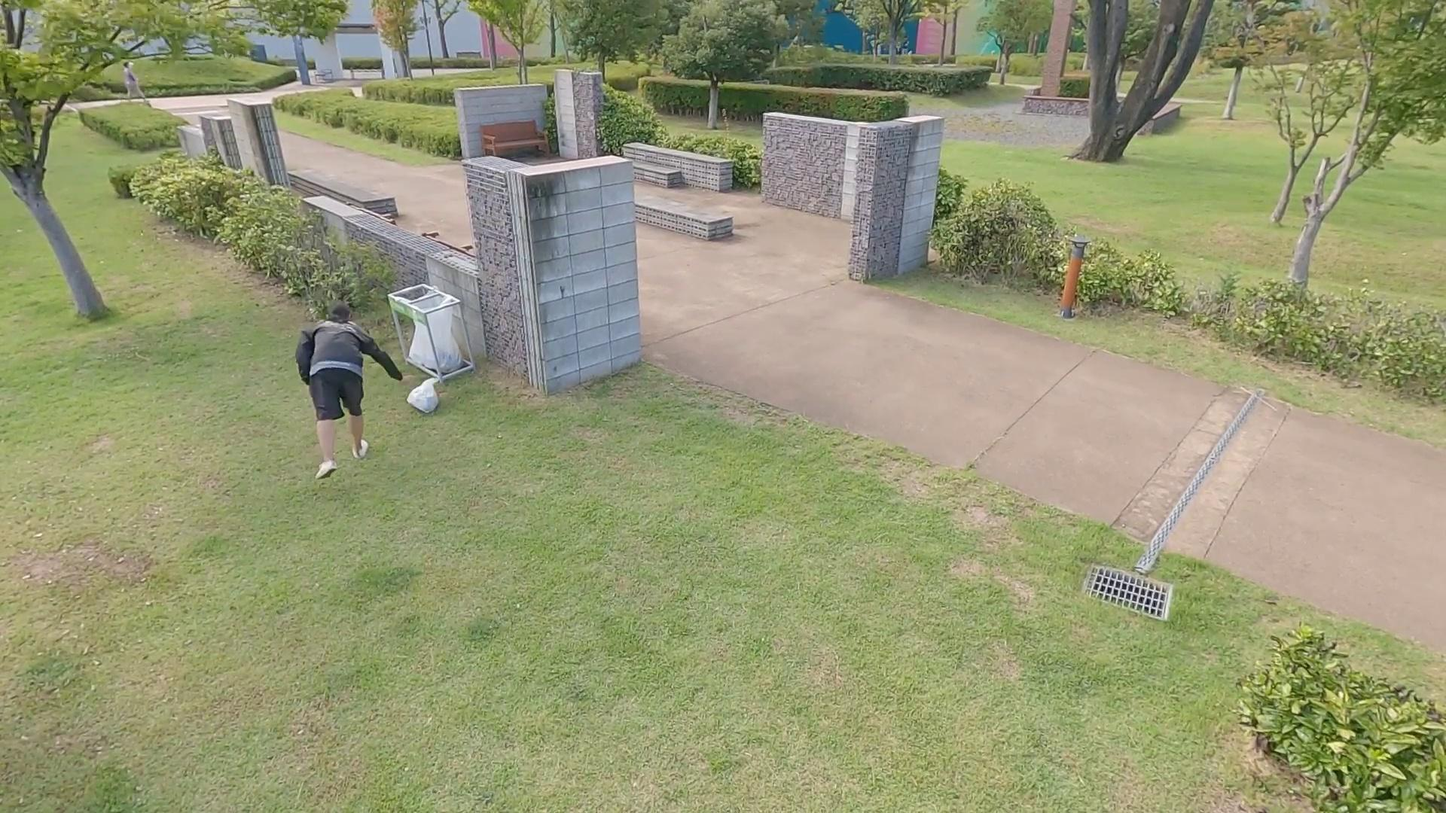person: (296, 302, 405, 481)
trash: (407, 376, 444, 412)
